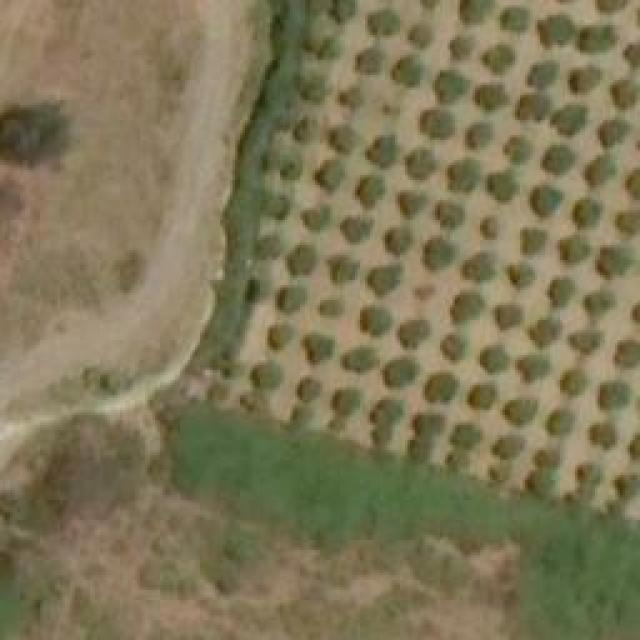Tree: (0, 98, 68, 161), (405, 412, 445, 460), (445, 425, 483, 470), (370, 398, 400, 451), (595, 245, 633, 280), (530, 182, 563, 220), (485, 170, 518, 205), (553, 103, 588, 136), (537, 145, 575, 175), (448, 158, 481, 191), (423, 235, 456, 268), (577, 25, 615, 53), (453, 290, 483, 325), (383, 358, 418, 388), (538, 15, 573, 45), (368, 135, 398, 168), (370, 265, 400, 298), (463, 250, 496, 280), (303, 333, 333, 366), (250, 360, 280, 393), (588, 420, 621, 450), (583, 290, 613, 323), (558, 235, 591, 265), (568, 63, 601, 93), (547, 275, 575, 310), (475, 82, 508, 110), (287, 243, 315, 276), (503, 397, 536, 425), (493, 432, 526, 460), (612, 338, 640, 371), (518, 92, 551, 120), (598, 117, 631, 145), (612, 78, 640, 111), (438, 70, 468, 100), (405, 148, 435, 178), (360, 305, 390, 335), (598, 380, 628, 410), (528, 318, 558, 348), (503, 135, 533, 165), (343, 348, 378, 373), (392, 55, 420, 85), (357, 178, 385, 208), (385, 228, 413, 258), (330, 253, 358, 283), (398, 320, 428, 348), (425, 372, 455, 400), (275, 285, 305, 313), (518, 355, 548, 383), (572, 198, 600, 228), (420, 110, 453, 135), (570, 330, 603, 355), (520, 225, 545, 258), (293, 115, 321, 144), (465, 120, 493, 148), (480, 345, 508, 373), (467, 382, 495, 410), (612, 472, 640, 500), (527, 57, 555, 85), (368, 10, 401, 33), (330, 125, 355, 155), (318, 160, 343, 190), (459, 0, 492, 22), (355, 48, 383, 73), (485, 45, 510, 73), (397, 193, 425, 218), (343, 215, 368, 243), (495, 302, 520, 330), (332, 388, 360, 413), (545, 407, 570, 435), (575, 460, 600, 488), (560, 367, 585, 395), (588, 157, 613, 185), (305, 75, 330, 103), (240, 393, 270, 416), (525, 473, 555, 496), (498, 8, 528, 31), (563, 488, 596, 508), (265, 192, 288, 220), (532, 448, 560, 471), (438, 203, 463, 228), (508, 263, 533, 288), (280, 155, 304, 181), (595, 0, 630, 17), (622, 165, 640, 198), (305, 208, 330, 231), (268, 325, 291, 350), (295, 378, 320, 401), (615, 210, 640, 233), (330, 0, 355, 22), (448, 35, 471, 58), (322, 35, 344, 58), (443, 335, 463, 360), (410, 23, 430, 46), (480, 215, 500, 238), (488, 463, 511, 483), (338, 85, 363, 103), (318, 297, 343, 315), (625, 37, 640, 65), (413, 285, 436, 303), (325, 418, 345, 438), (290, 408, 310, 428), (605, 500, 628, 515)
